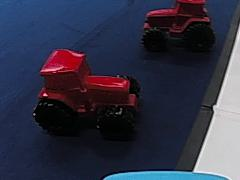Tracktor: (31, 47, 141, 136), (139, 0, 215, 51)
